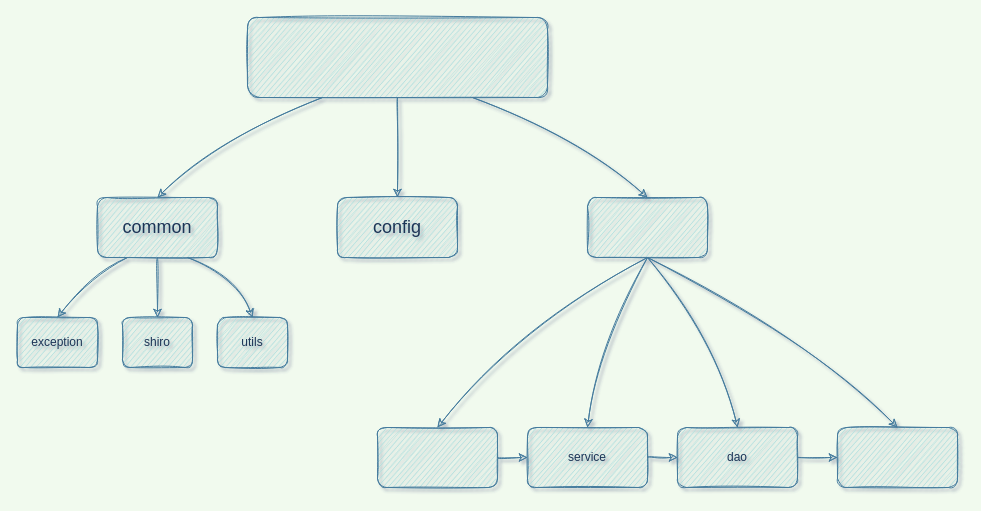
The diagram is 981 pixels wide and 511 high, and some of its shapes have lost their labels. Here are the shapes that lost their labels. From the top down, the centre of each, then its label:
At (397,57): "com.se.njutesting".
At (647,227): "module".
At (437,457): "controller".
At (897,457): "entity".
